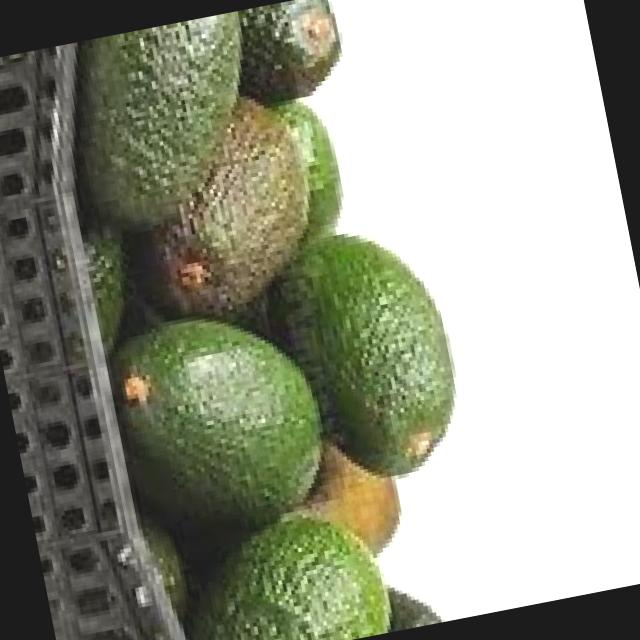avocado: (111, 285, 342, 538), (273, 217, 482, 492), (138, 80, 348, 326), (76, 9, 277, 230)
